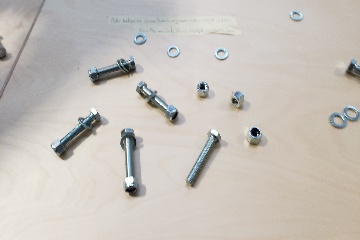Bolt: (184, 126, 227, 189)
FalseAssembly: (49, 102, 105, 162), (118, 127, 144, 198)
FinishedAssembly: (132, 81, 180, 125), (86, 54, 136, 83)
Nut: (244, 124, 265, 146), (229, 92, 246, 109), (196, 81, 210, 99)
Washer: (327, 111, 348, 131), (341, 103, 360, 122), (214, 47, 230, 62), (166, 45, 180, 59), (288, 9, 303, 22), (133, 33, 148, 45)
